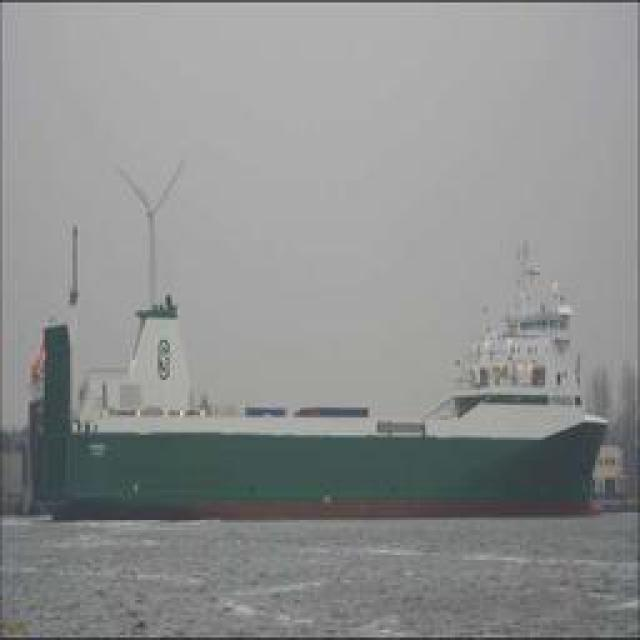Ship: (19, 249, 618, 523)
